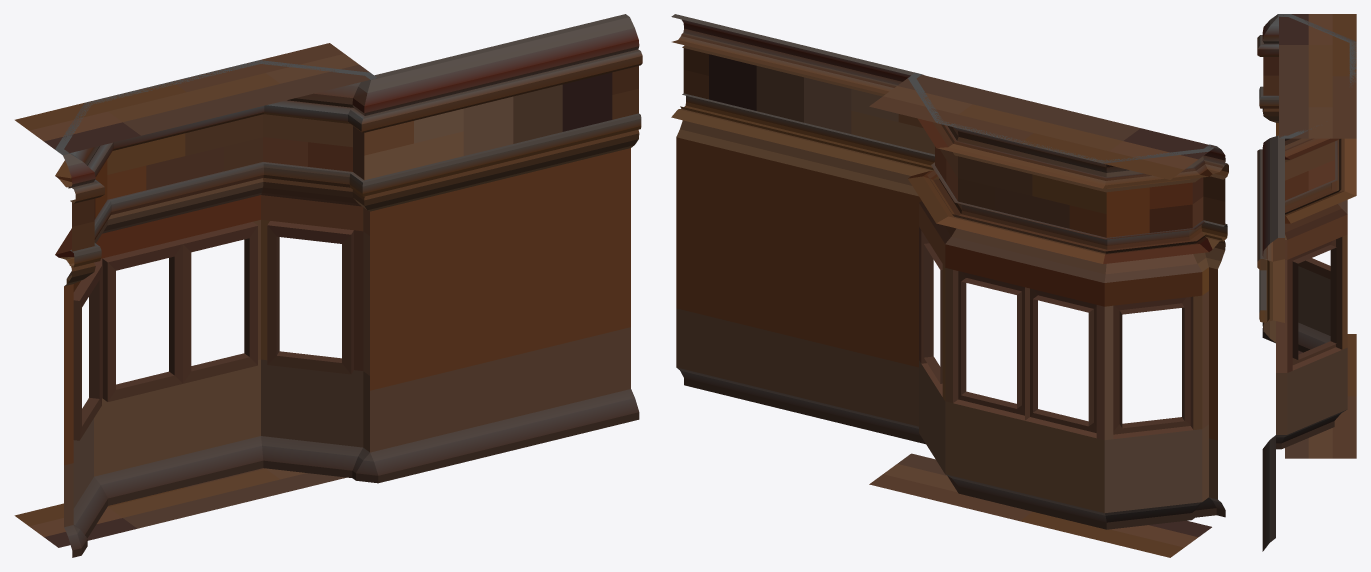
The model's file is Wall_HomeA-4WindowA-L6m.fbx.
3 renders of one model, left to right at view 1: azimuth 30°, elevation 25°; view 2: azimuth 150°, elevation 25°; view 3: azimuth 270°, elevation 25°, orthographic. The views are drawn at different scales.
Parts seen in each view (by area): view 1: Wall_HomeA-4WindowA-L6m; view 2: Wall_HomeA-4WindowA-L6m; view 3: Wall_HomeA-4WindowA-L6m.
Part boxes in pixels (x1,y1,x2,y2): Wall_HomeA-4WindowA-L6m: [14, 14, 642, 557]; Wall_HomeA-4WindowA-L6m: [671, 14, 1228, 557]; Wall_HomeA-4WindowA-L6m: [1257, 14, 1356, 551].
Bounding box in the file's own units: 600 × 400 × 112.
